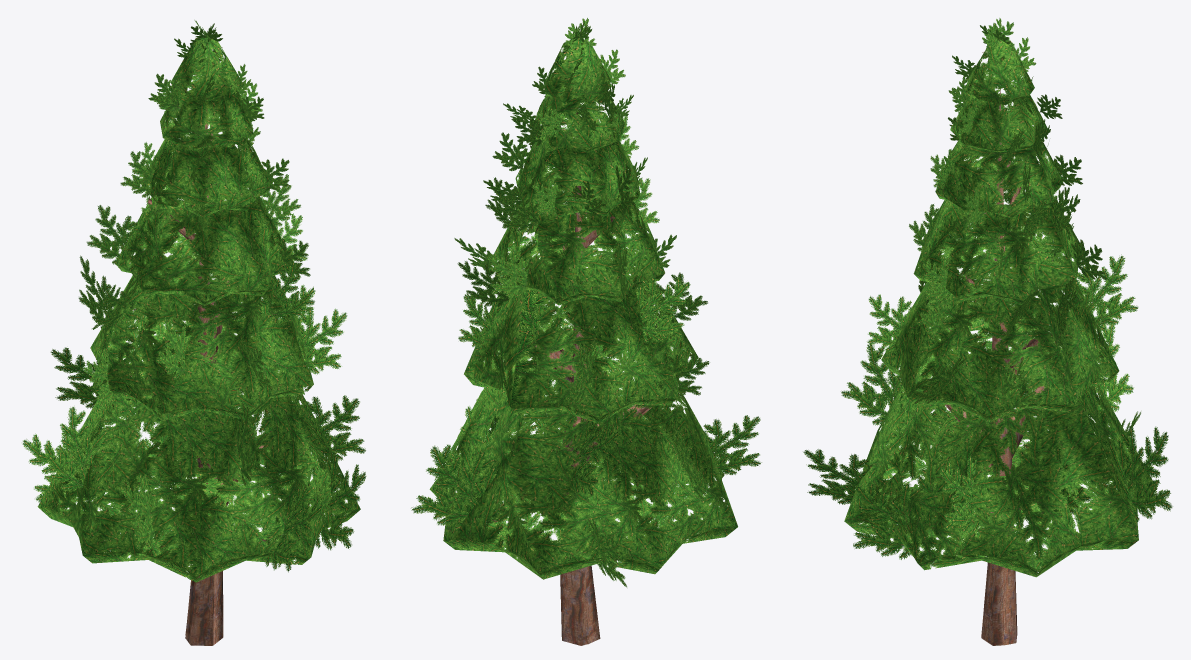
File: Pine.glb
3 views of the same model, side by side, from view 1: azimuth 30°, elevation 25°; view 2: azimuth 150°, elevation 25°; view 3: azimuth 270°, elevation 25° (orthographic).
Parts seen in each view (by area): view 1: Pine; view 2: Pine; view 3: Pine.
Boxes of the visible parts, box(x1,y1,x2,y2) form: Pine: box(22, 20, 366, 645); Pine: box(411, 18, 761, 645); Pine: box(803, 18, 1172, 645).
Size of the model in its own units: 3.4 by 6.69 by 3.75.
4 materials, 4 textured.
